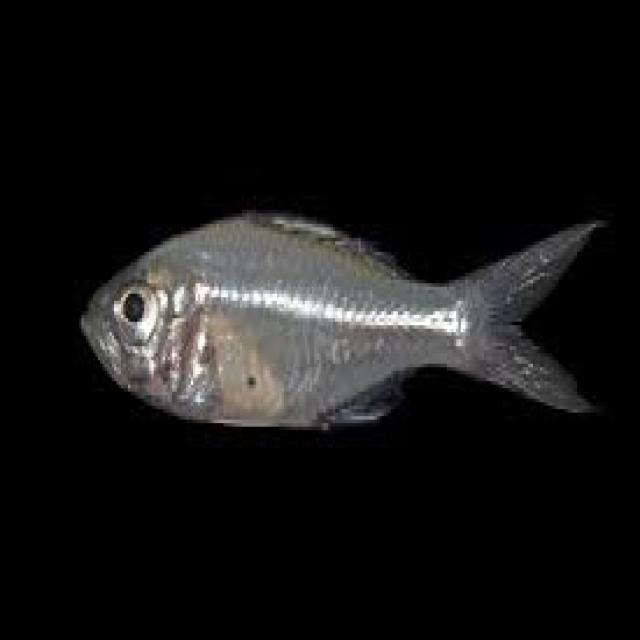Glass-Perchlet: (56, 128, 610, 505)
